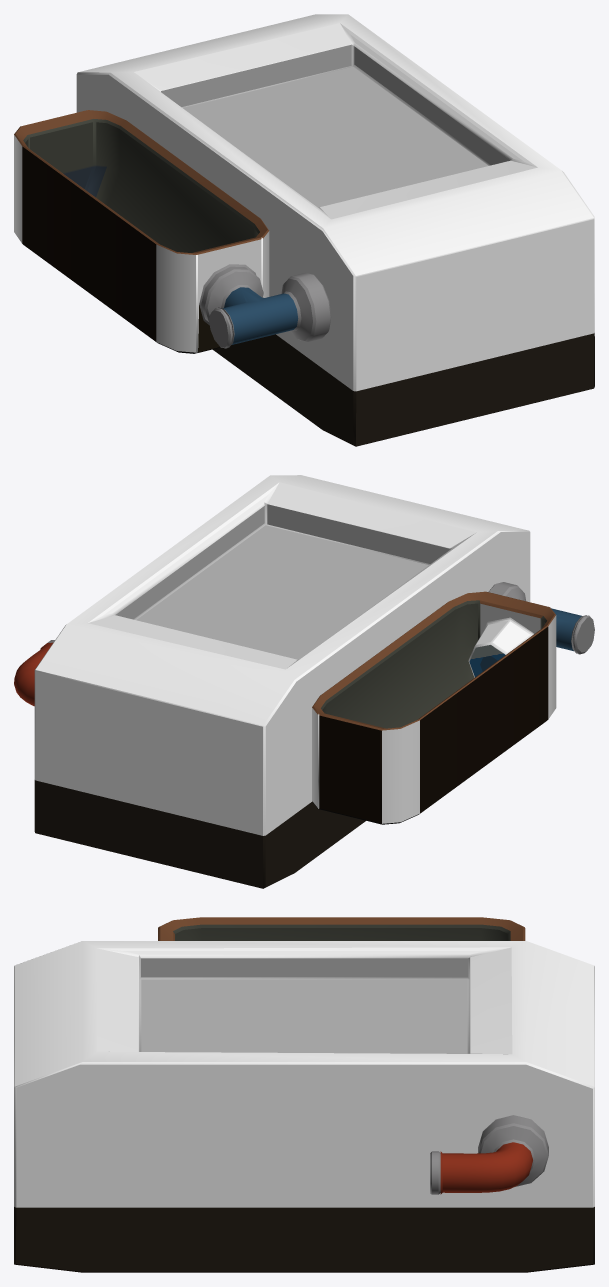
The model's file is ModuleBase.fbx.
3 views of the same model, one above another, from view 1: azimuth 30°, elevation 25°; view 2: azimuth 150°, elevation 25°; view 3: azimuth 270°, elevation 25° (orthographic). The views are drawn at different scales.
Visible parts, largest first — view 1: ModuleBase; view 2: ModuleBase; view 3: ModuleBase.
Boxes of the visible parts, <box> form: ModuleBase: <box>14,14,594,446</box>; ModuleBase: <box>14,475,594,888</box>; ModuleBase: <box>14,917,594,1272</box>.
Size of the model in its own units: 32.1 by 14.95 by 37.03.
